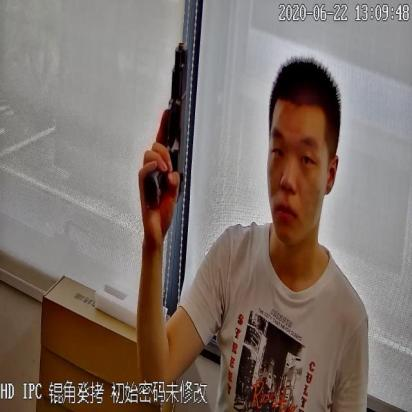Gun: (141, 40, 191, 206)
